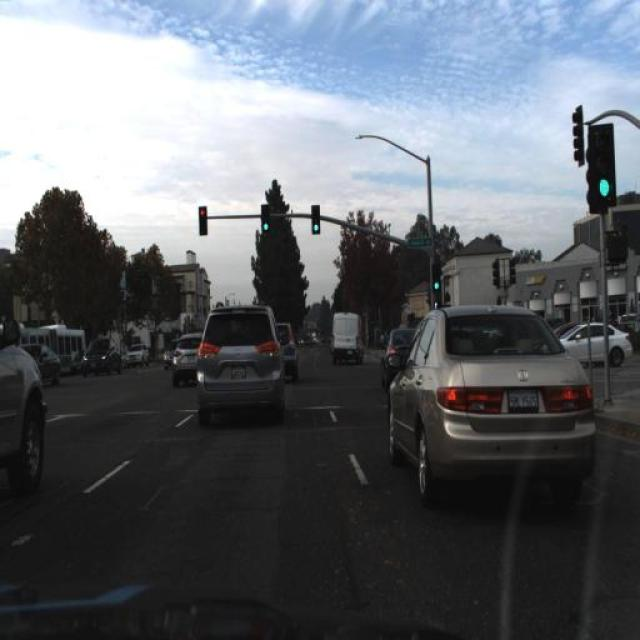car: (392, 284, 600, 506), (193, 300, 285, 424), (0, 309, 50, 502), (377, 317, 422, 394), (561, 316, 627, 366), (327, 306, 367, 366), (168, 328, 200, 382), (275, 316, 299, 384), (81, 337, 122, 372), (124, 341, 152, 371)
trafficLight-Green: (587, 122, 617, 212), (428, 262, 442, 298), (196, 204, 210, 236), (260, 200, 272, 236), (310, 204, 321, 234)
